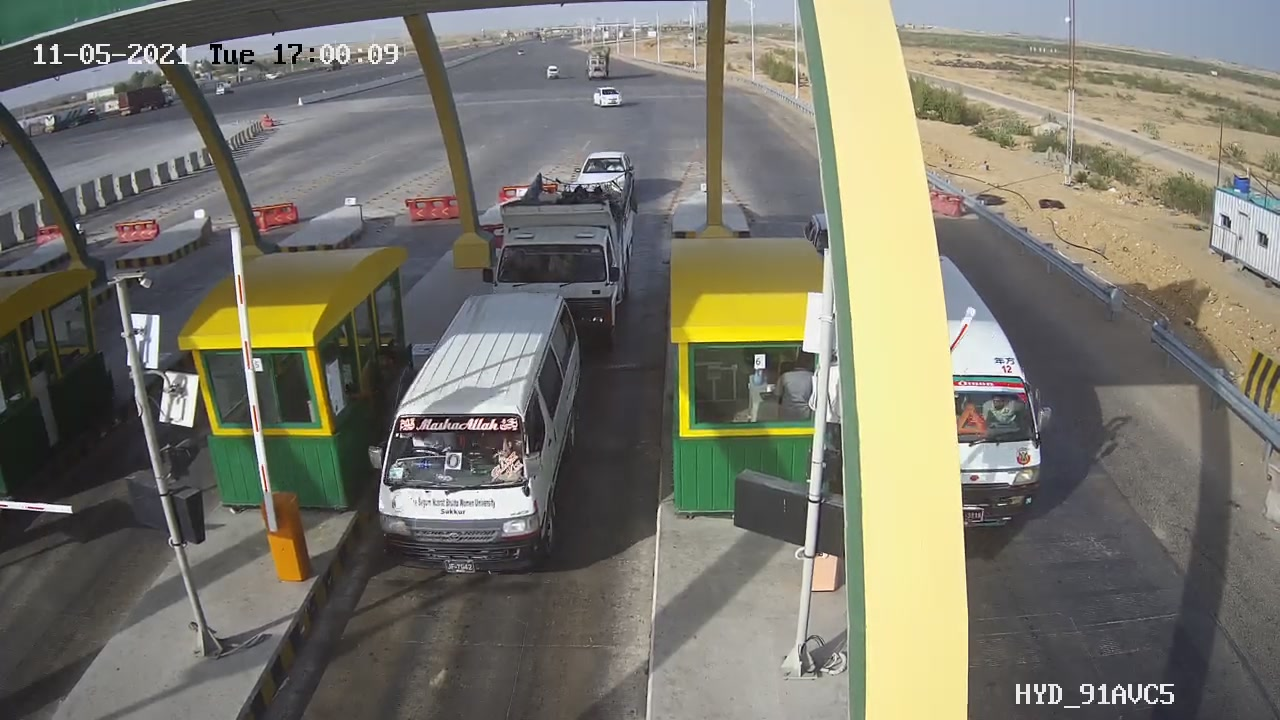F2: (348, 278, 608, 596)
